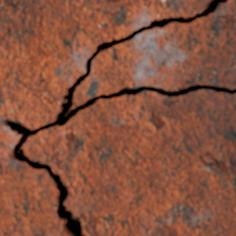brick: (0, 0, 209, 235), (23, 90, 235, 235), (73, 0, 235, 106)
crack: (1, 0, 235, 235)
